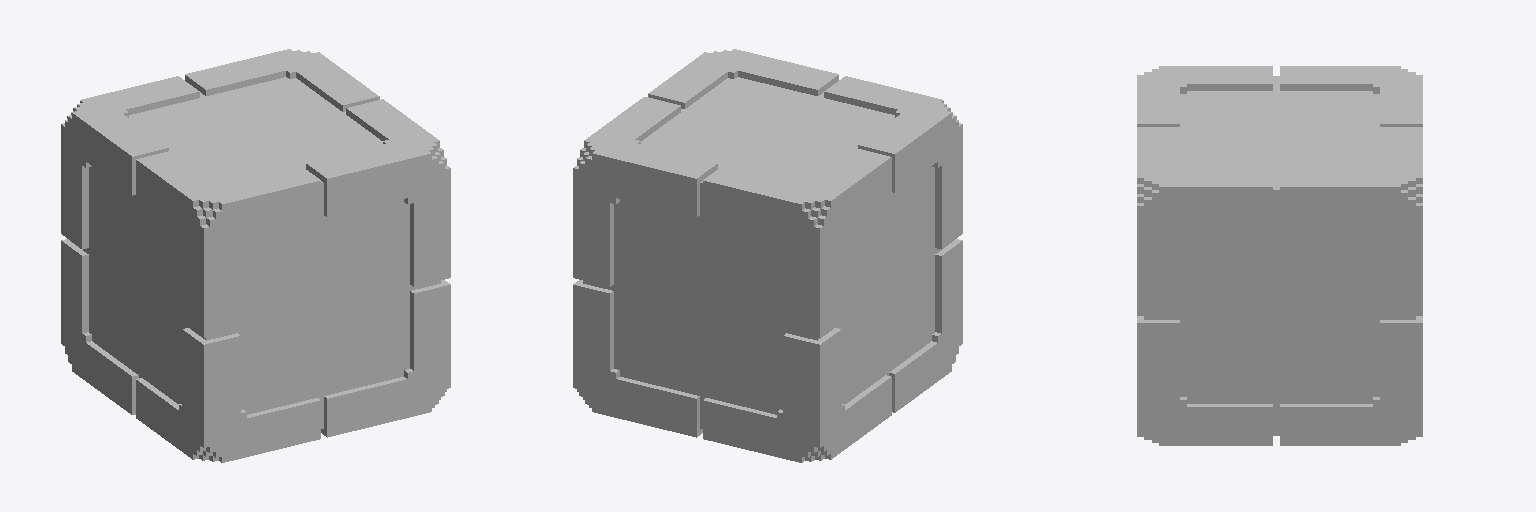
The model's file is Boula.obj.
3 renders of one model, left to right at view 1: azimuth 30°, elevation 25°; view 2: azimuth 150°, elevation 25°; view 3: azimuth 270°, elevation 25°, orthographic.
Visible parts, largest first — view 1: object 1; view 2: object 1; view 3: object 1.
Part boxes in pixels (left/top/right/bottom): object 1: left=61, top=49, right=450, bottom=462; object 1: left=573, top=49, right=962, bottom=462; object 1: left=1137, top=66, right=1422, bottom=445.
Bounding box in the file's own units: 4 × 4 × 4.